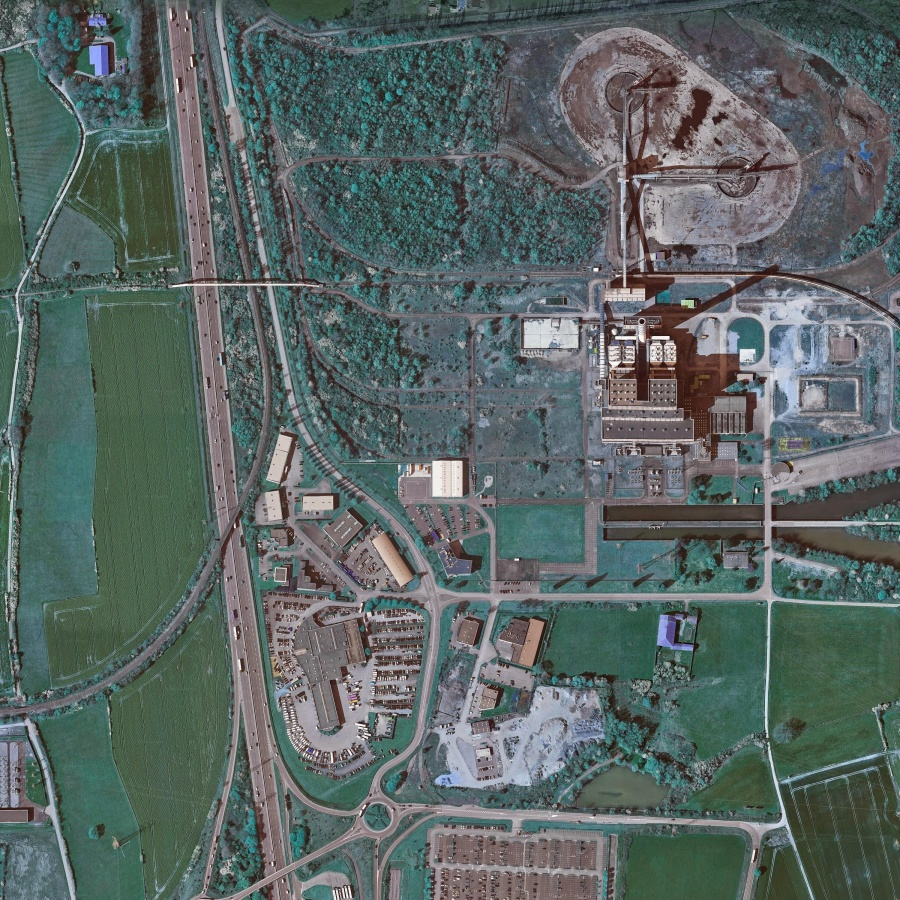PowerPlant: (527, 27, 800, 453)
